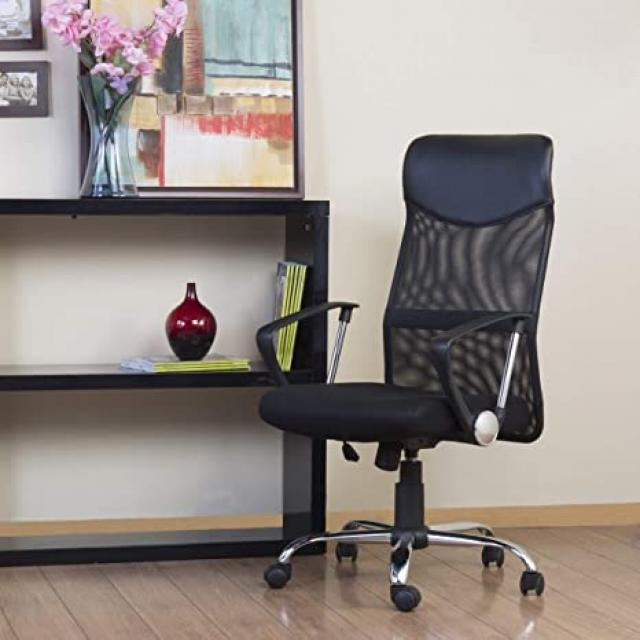chair: (257, 126, 561, 608)
